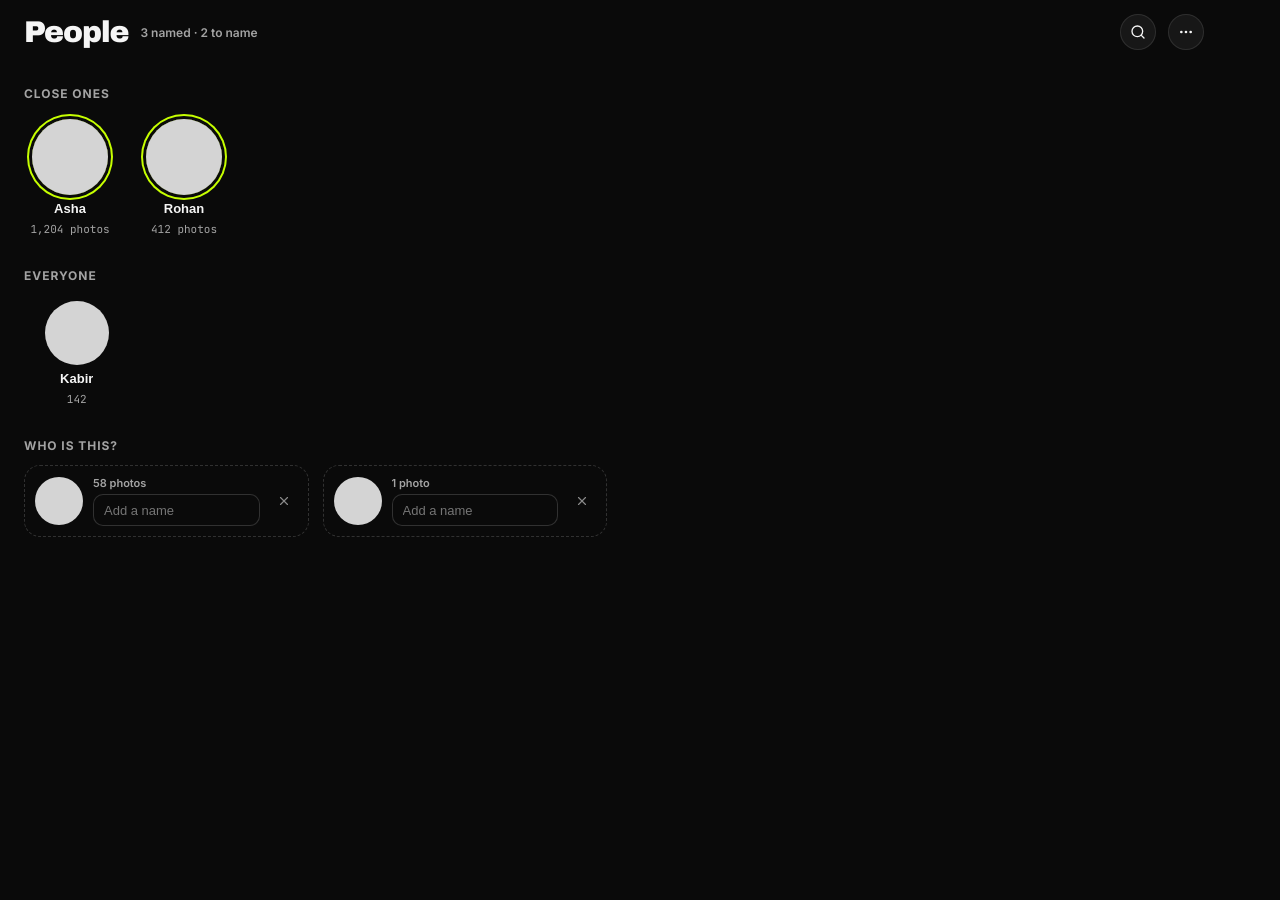
Scenario: PeopleOverview › filters by its own search field and hides naming while searching
The image size is (1280, 900).
Check: the button "Asha 1,204 photos" is shown, box [24,113,116,242]
Click the button named "Search people". click: (1138, 32)
box: [1120,14,1156,50]
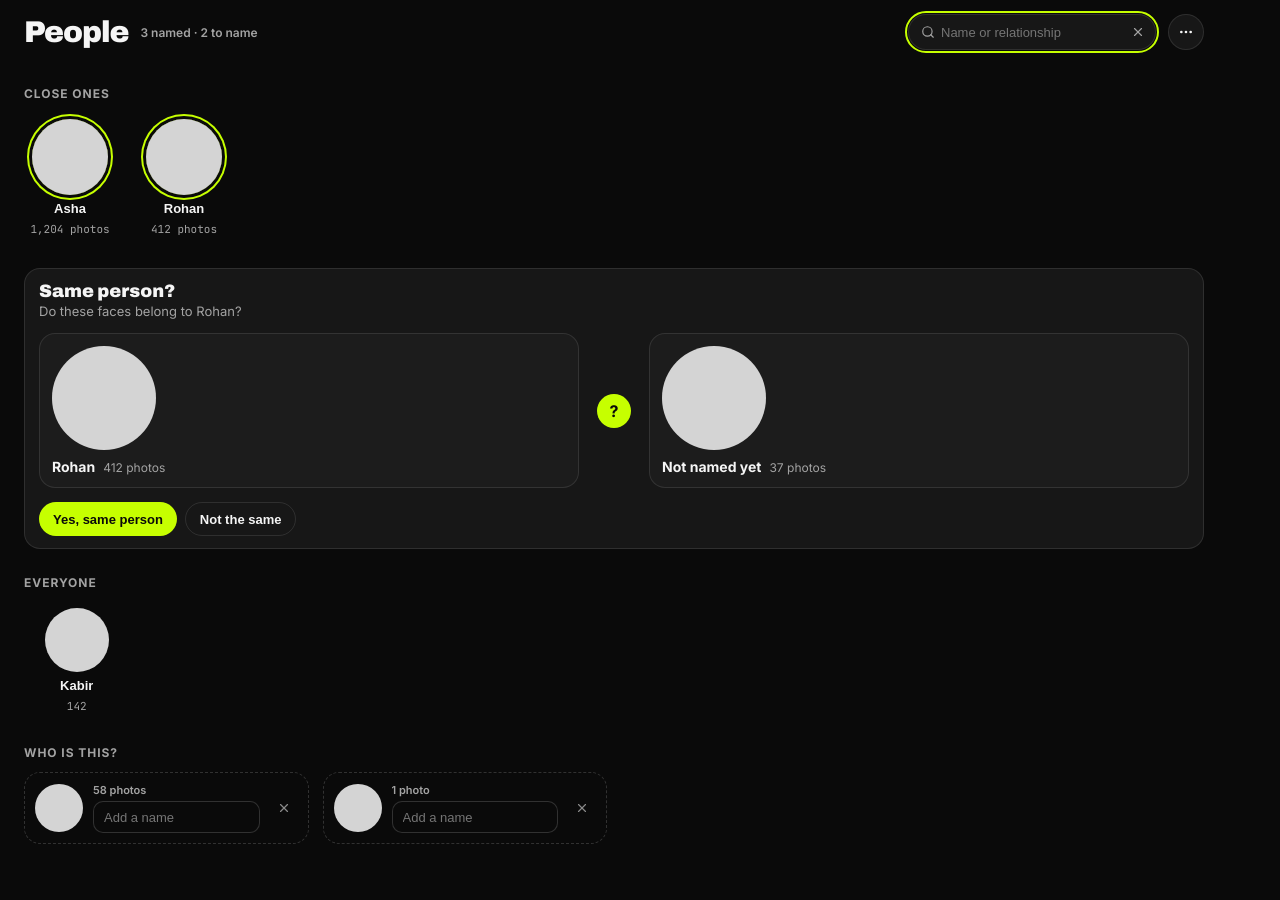
Type "kab" into the field named "Search people". click: (1031, 32)
box: [941,24,1121,40]
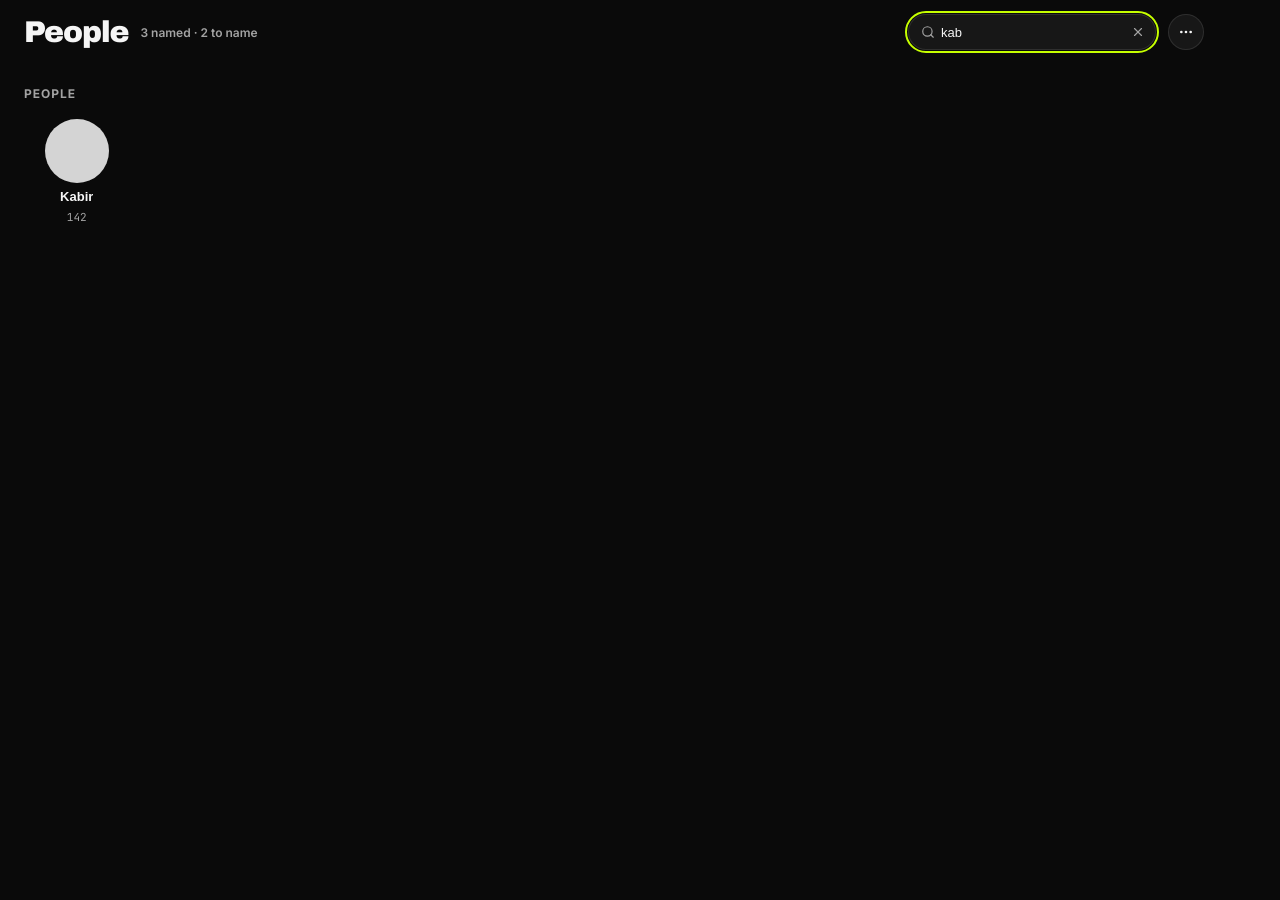
Check: the button "Asha" is gone
Check: the text "Same person?" is gone
Check: the heading "Who is this?" is gone
